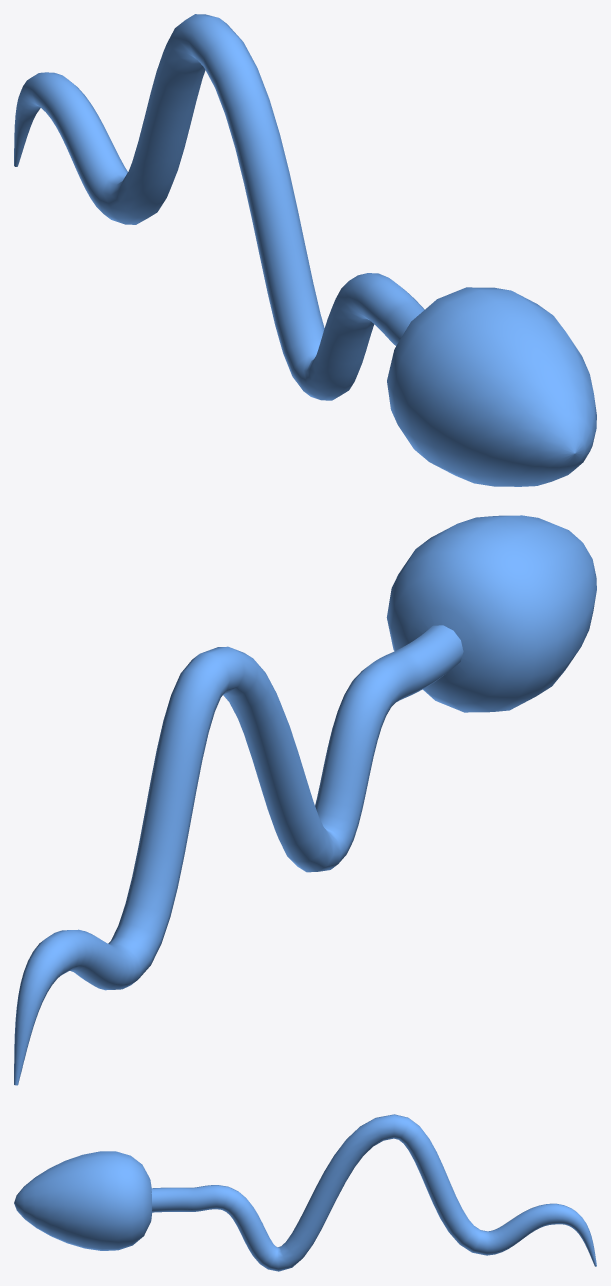
Rendered from spermatoÏde.obj.
3 views of the same model, one above another, from view 1: azimuth 30°, elevation 25°; view 2: azimuth 150°, elevation 25°; view 3: azimuth 270°, elevation 25° (orthographic). The views are drawn at different scales.
Visible parts, largest first — view 1: BezierCurve; view 2: BezierCurve; view 3: BezierCurve.
Boxes of the visible parts, x1,y1,x2,y2 form: BezierCurve: (14, 14, 596, 486); BezierCurve: (14, 515, 596, 1085); BezierCurve: (14, 1114, 596, 1271).
Bounding box in the file's own units: 25.56 × 43.76 × 149.
